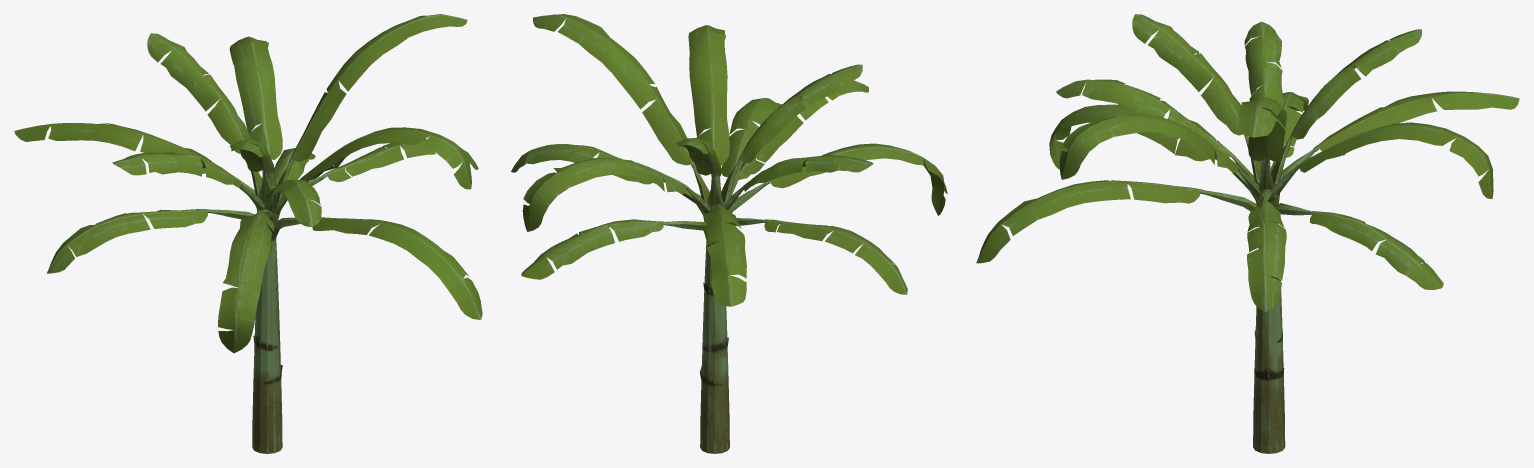
File: banana_small.glb
The picture shows the model from 3 angles, left to right: view 1: azimuth 30°, elevation 25°; view 2: azimuth 150°, elevation 25°; view 3: azimuth 270°, elevation 25°; orthographic projection. The views are drawn at different scales.
Visible parts, largest first — view 1: banana_small; view 2: banana_small; view 3: banana_small.
Part boxes in pixels (x1,y1,x2,y2): banana_small: (14,14,482,453); banana_small: (511,14,947,453); banana_small: (976,14,1519,453).
Size of the model in its own units: 2.82 by 2.56 by 3.
1 material, 1 textured.
